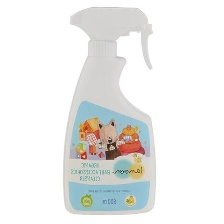cleaning_solution: (59, 3, 158, 217)
